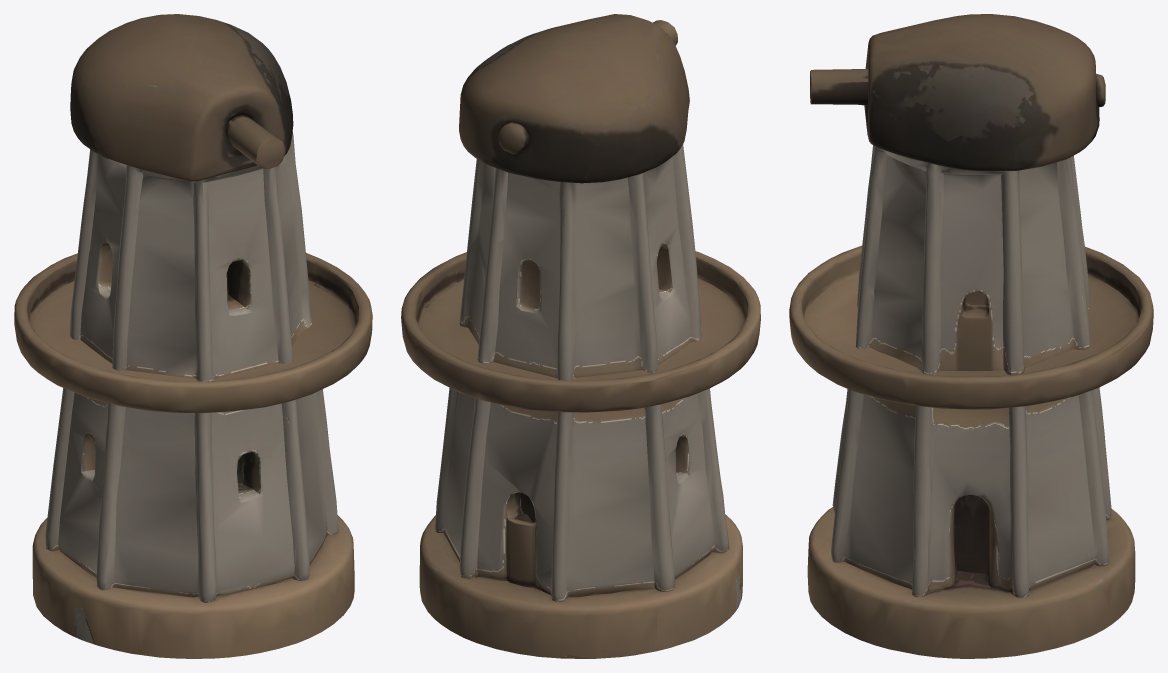
Rendered from windmill-body.glb.
3 renders of one model, left to right at view 1: azimuth 30°, elevation 25°; view 2: azimuth 150°, elevation 25°; view 3: azimuth 270°, elevation 25°, orthographic.
Parts seen in each view (by area): view 1: dutch-windmill; view 2: dutch-windmill; view 3: dutch-windmill.
Boxes of the visible parts, left/top/right/bottom form: dutch-windmill: left=14, top=14, right=372, bottom=658; dutch-windmill: left=401, top=14, right=760, bottom=658; dutch-windmill: left=789, top=14, right=1153, bottom=658.
Bounding box in the file's own units: 3.8 × 6.5 × 3.84.
Materials: 1 (1 with a texture image).
